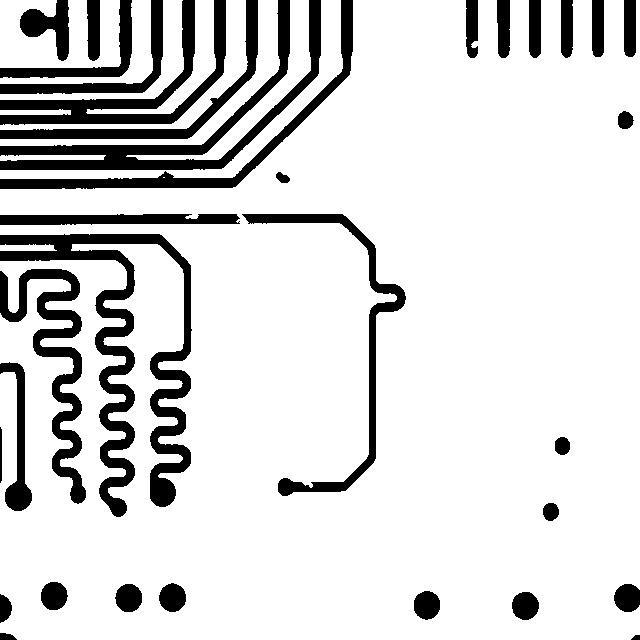copper: (266, 162, 299, 192)
mousebite: (175, 204, 208, 228), (292, 471, 322, 497), (461, 31, 488, 57)
open: (226, 203, 258, 235)
short: (94, 141, 147, 173), (44, 229, 81, 262), (61, 98, 97, 127)
spur: (146, 161, 183, 190), (200, 88, 227, 113)
